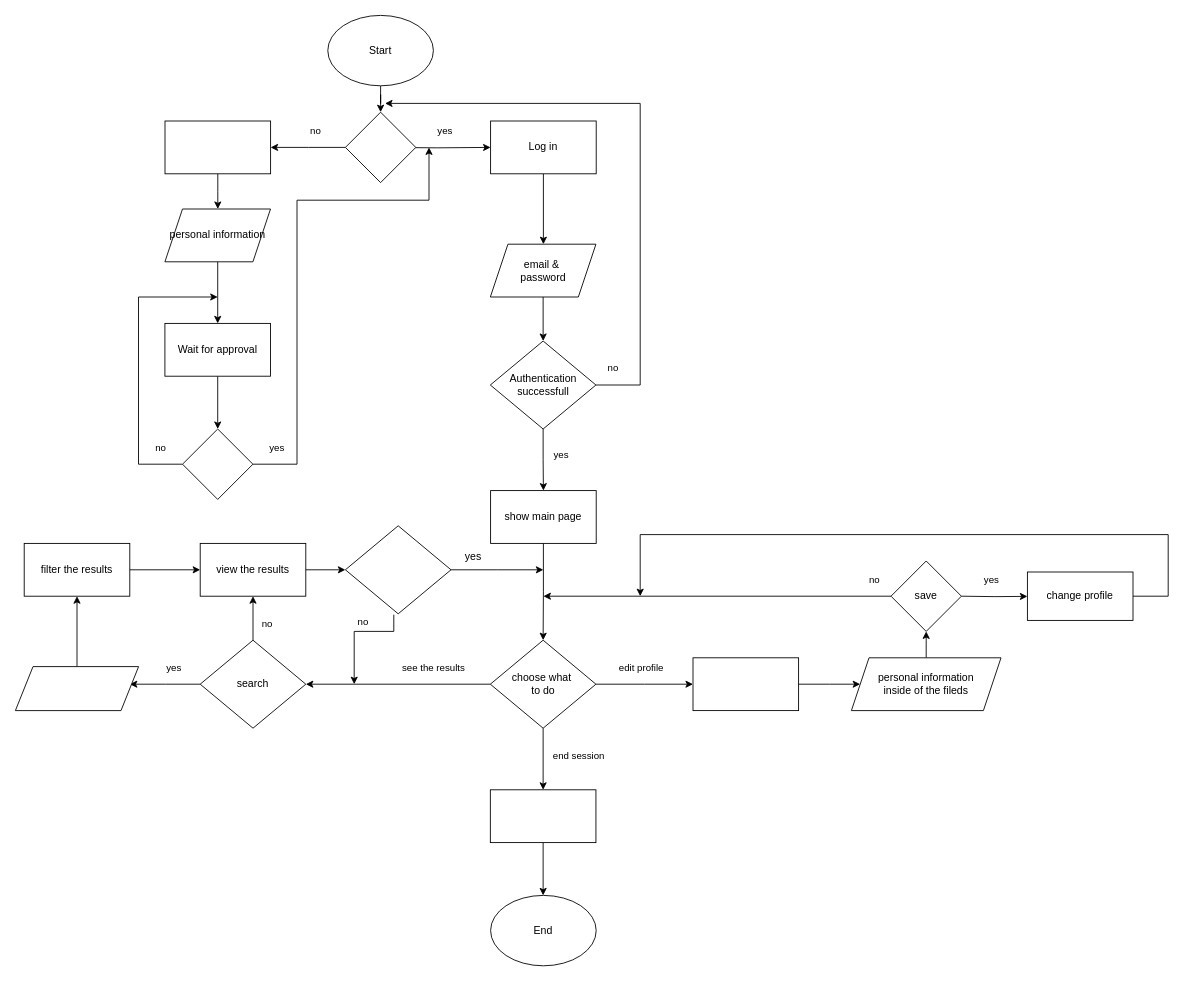
Some shapes in this 1191 by 981 pixel diagram are drawn without their labels. The centre of each missing label's shape, as x and y in pixels:
"Approved" goes at point 217,463.
"date &/ exam item &/ abnormal result" goes at point 77,688.
"exit" goes at point 398,569.
"have an account" goes at point 380,147.
"log off" goes at point 542,816.
"Register" goes at point 217,147.
"show profile information" goes at point 745,684.
